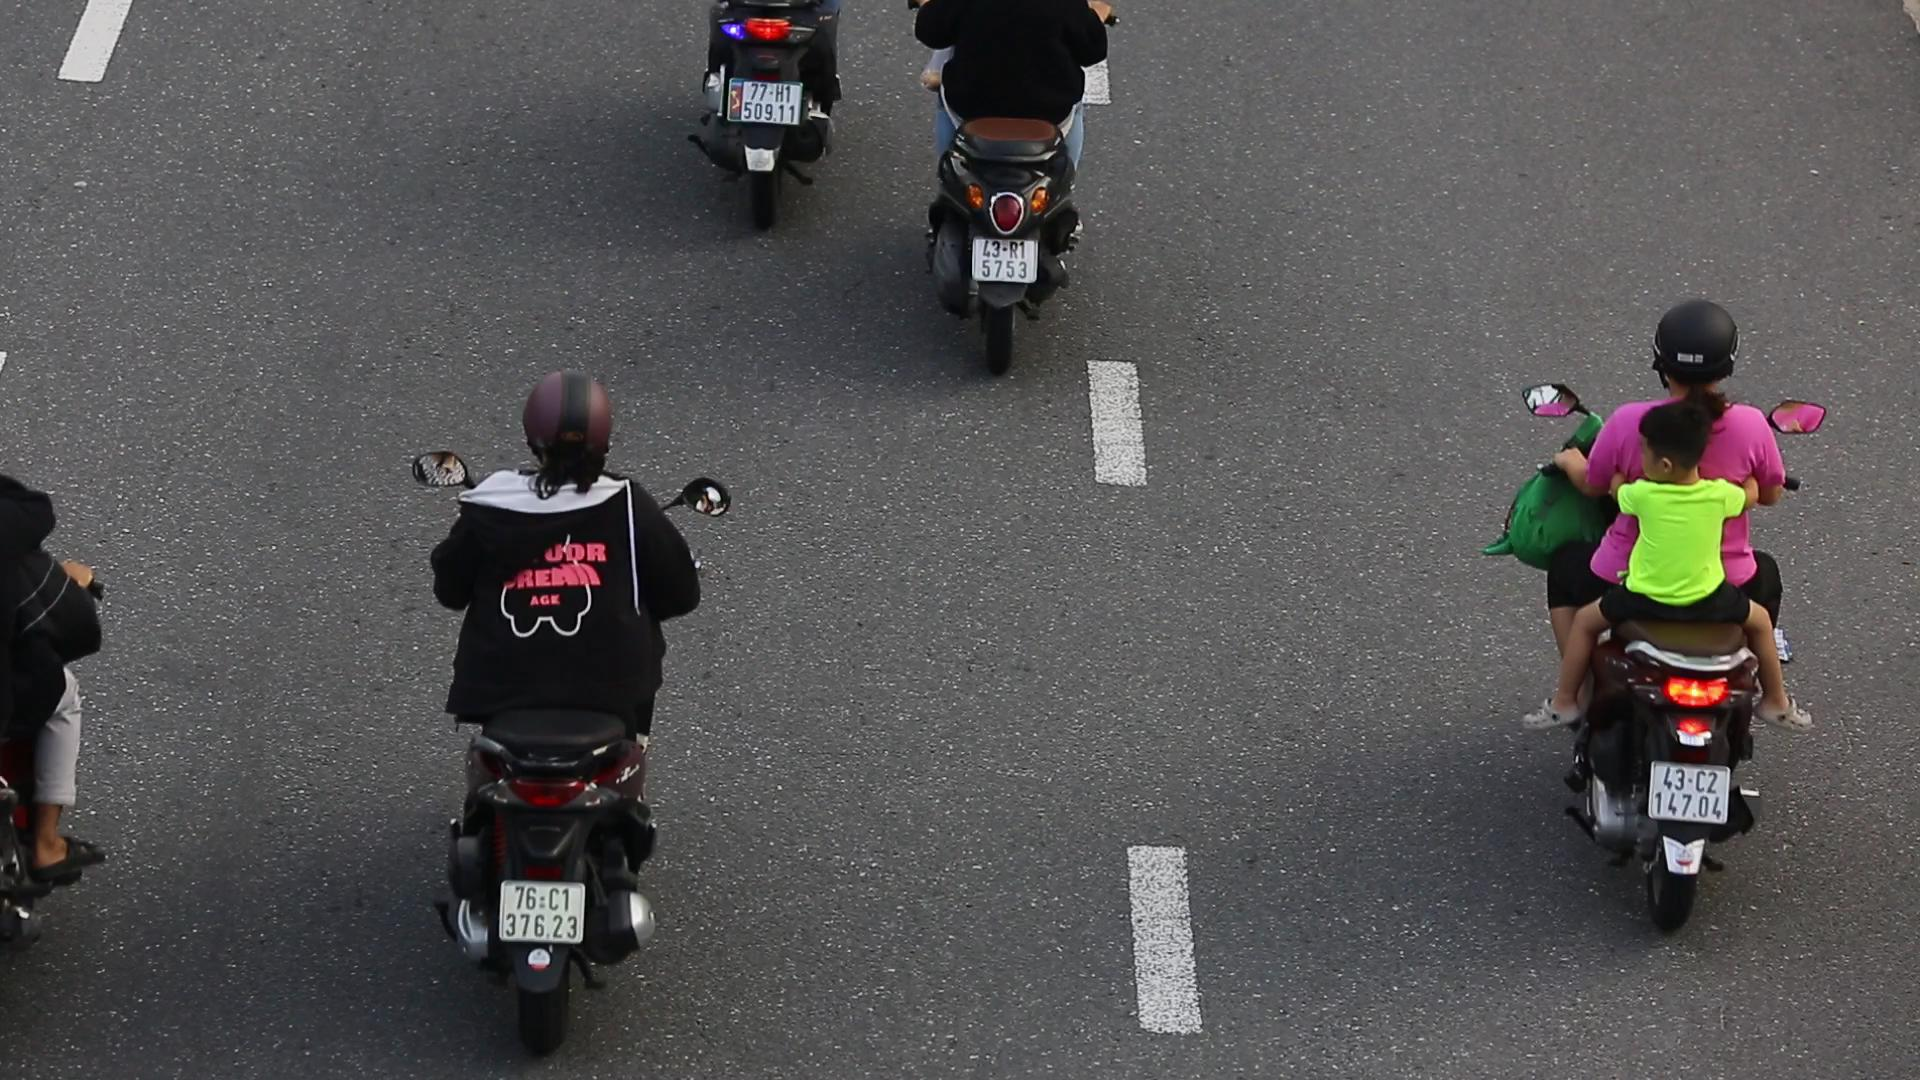motobike: (409, 361, 733, 1071), (1505, 282, 1832, 947)
